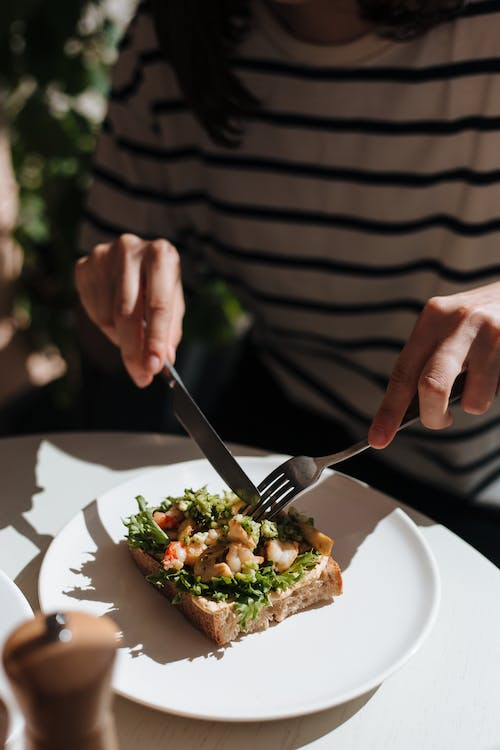knife: (154, 359, 264, 507)
